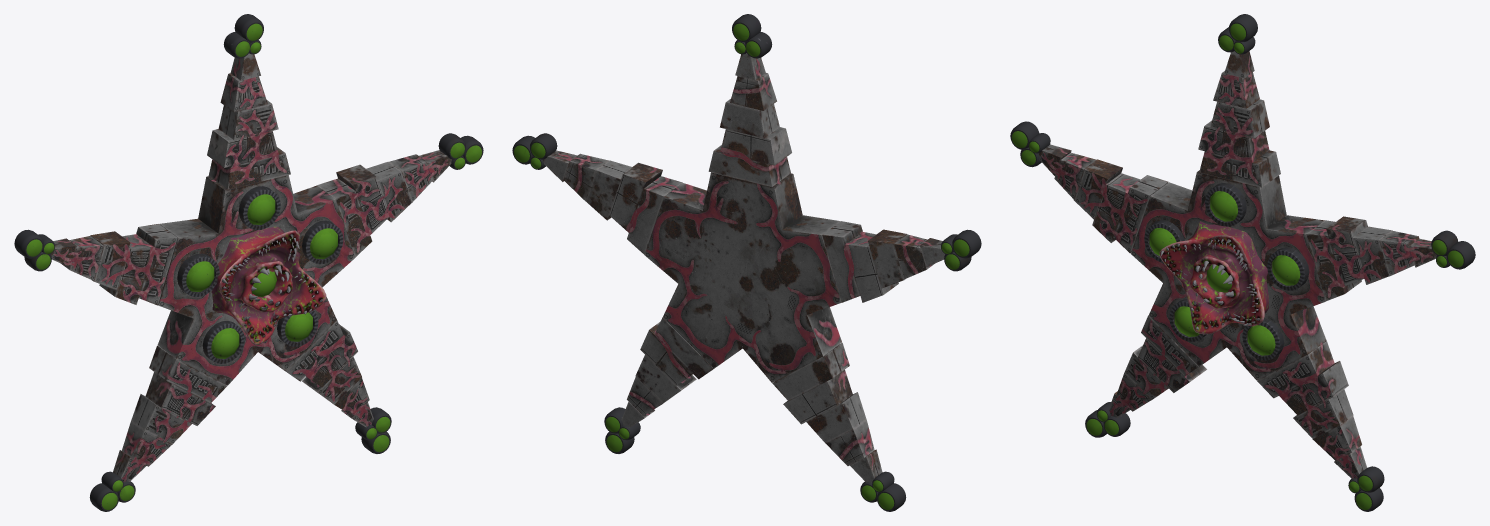
The model's file is boss_split.fbx.
The picture shows the model from 3 angles, left to right: view 1: azimuth 30°, elevation 25°; view 2: azimuth 150°, elevation 25°; view 3: azimuth 330°, elevation 25°; orthographic projection.
Visible parts, largest first — view 1: mouth_part, tentA_b, tentD_b, tentE_b, tentB_b, tentA_a, tentD_a, tentE_a, tentB_a, tentC_b, tentC_a; view 2: mouth_part, tentA_b, tentD_b, tentB_b, tentE_b, tentD_a, tentA_a, tentE_a, tentB_a, tentC_b, tentC_a; view 3: mouth_part, tentA_b, tentC_b, tentB_b, tentE_b, tentA_a, tentC_a, tentB_a, tentE_a, tentD_b, tentD_a.
Part boxes in pixels (x1,y1,x2,y2): mouth_part: [157, 175, 354, 385]; tentA_b: [218, 14, 278, 139]; tentD_b: [89, 394, 191, 511]; tentE_b: [14, 229, 130, 290]; tentB_b: [366, 133, 483, 222]; tentA_a: [207, 129, 290, 189]; tentD_a: [145, 345, 226, 425]; tentE_a: [99, 224, 177, 305]; tentB_a: [317, 164, 389, 257]; tentC_b: [302, 356, 391, 453]; tentC_a: [286, 320, 357, 387]; mouth_part: [644, 172, 841, 382]; tentA_b: [720, 14, 779, 138]; tentD_b: [806, 392, 906, 511]; tentB_b: [512, 133, 631, 220]; tentE_b: [868, 229, 981, 288]; tentD_a: [772, 343, 852, 424]; tentA_a: [708, 127, 791, 186]; tentE_a: [822, 221, 898, 302]; tentB_a: [609, 162, 682, 254]; tentC_b: [604, 355, 696, 453]; tentC_a: [640, 317, 713, 385]; mouth_part: [1131, 170, 1326, 380]; tentA_b: [1210, 14, 1269, 138]; tentC_b: [1293, 389, 1384, 511]; tentB_b: [1353, 226, 1475, 284]; tentE_b: [1010, 121, 1122, 219]; tentA_a: [1198, 120, 1280, 187]; tentC_a: [1257, 341, 1348, 415]; tentB_a: [1306, 216, 1367, 301]; tentE_a: [1092, 173, 1168, 253]; tentD_b: [1085, 345, 1168, 437]; tentD_a: [1138, 315, 1206, 392].
Bounding box in the file's own units: 3664 × 3529 × 526.
